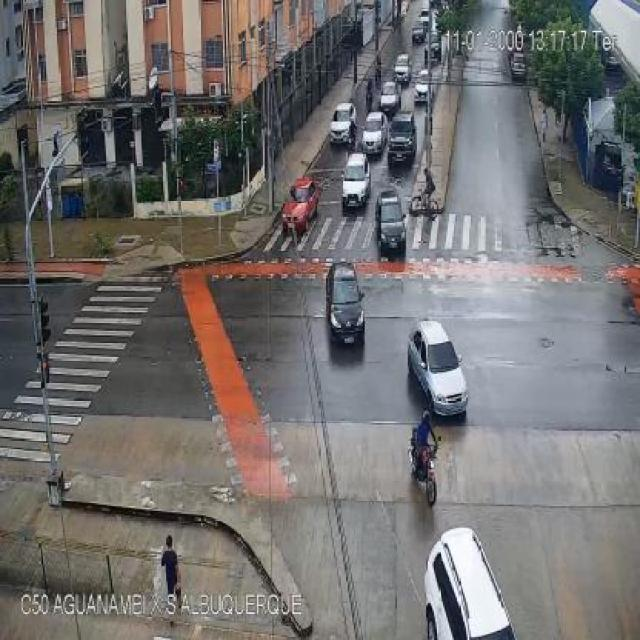Car: (409, 314, 471, 419), (327, 259, 368, 353), (280, 172, 323, 232), (336, 151, 374, 215), (374, 190, 408, 258), (389, 111, 416, 167), (359, 112, 389, 158), (329, 102, 357, 145), (378, 82, 401, 113), (393, 54, 412, 83)
Cycle: (406, 412, 448, 508), (411, 168, 440, 220)
